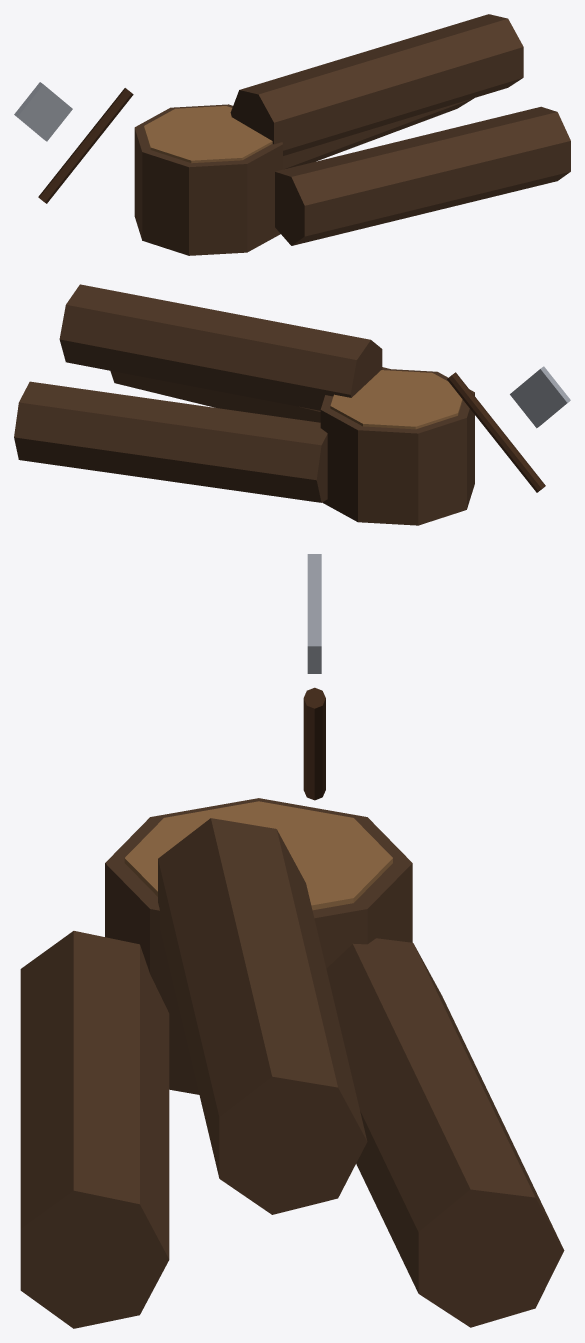
The model's file is SM_GZ_res_oak.fbx.
The picture shows the model from 3 angles, top to bottom: view 1: azimuth 30°, elevation 25°; view 2: azimuth 150°, elevation 25°; view 3: azimuth 270°, elevation 25°; orthographic projection. The views are drawn at different scales.
Visible parts, largest first — view 1: SM_GZ_res_oak; view 2: SM_GZ_res_oak; view 3: SM_GZ_res_oak.
Part boxes in pixels (<box>): SM_GZ_res_oak: <box>14,14,570,255</box>; SM_GZ_res_oak: <box>14,284,570,525</box>; SM_GZ_res_oak: <box>20,554,564,1328</box>.
Bounding box in the file's own units: 401 × 133 × 195.
